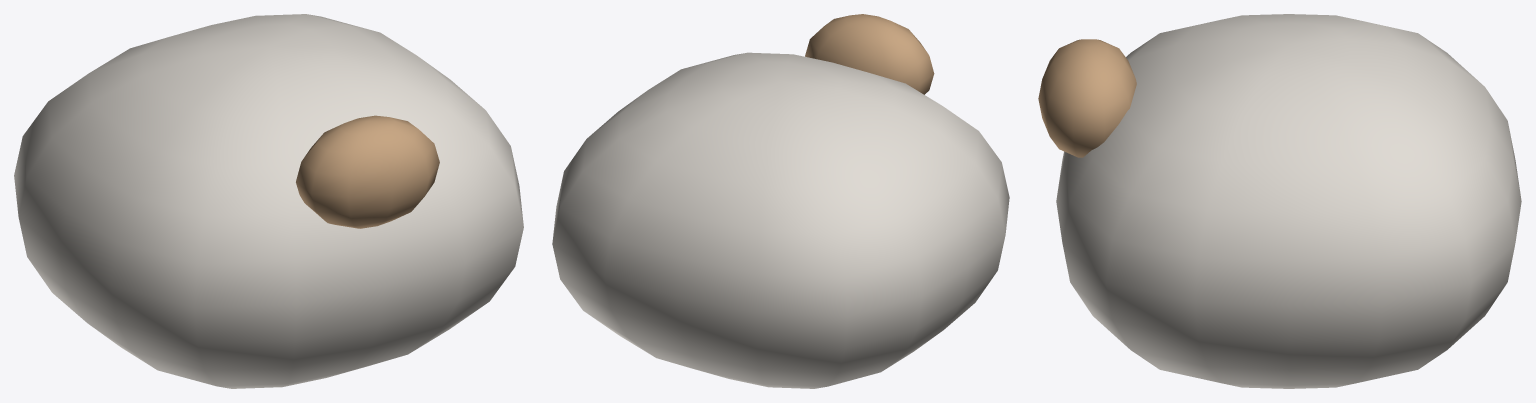
File: muzzle-boxy-dog.glb
3 views of the same model, side by side, from view 1: azimuth 30°, elevation 25°; view 2: azimuth 150°, elevation 25°; view 3: azimuth 270°, elevation 25° (orthographic). The views are drawn at different scales.
Visible parts, largest first — view 1: muzzle-boxy-dog; view 2: muzzle-boxy-dog; view 3: muzzle-boxy-dog.
Boxes of the visible parts, <box> form: muzzle-boxy-dog: <box>14,14,523,388</box>; muzzle-boxy-dog: <box>552,14,1009,388</box>; muzzle-boxy-dog: <box>1038,14,1521,388</box>.
Bounding box in the file's own units: 0.164 × 0.116 × 0.162.
